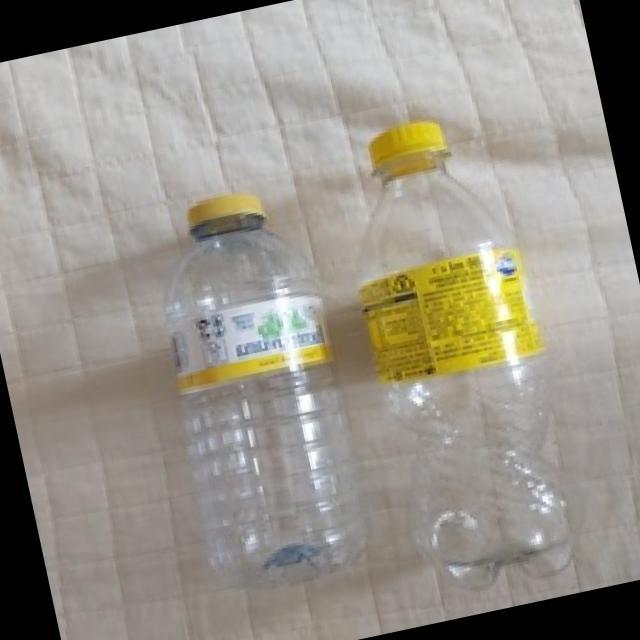good: (314, 93, 604, 603), (130, 165, 392, 607)
